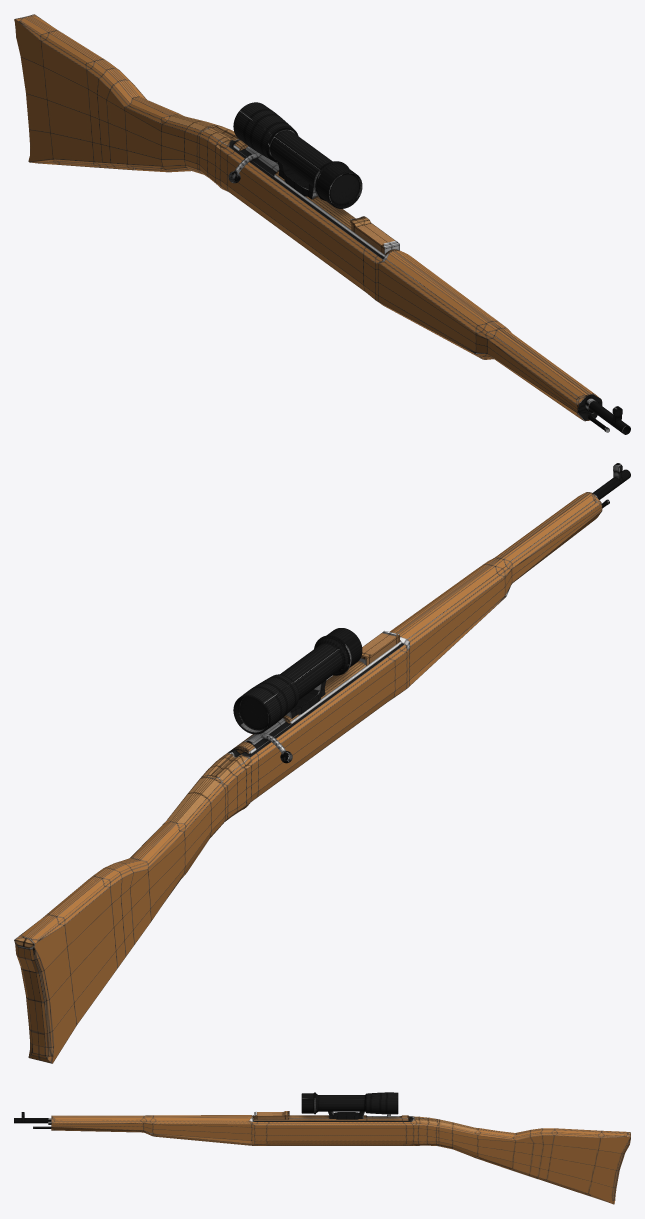
File: Completed MosinNagant.fbx
3 renders of one model, top to bottom at view 1: azimuth 30°, elevation 25°; view 2: azimuth 150°, elevation 25°; view 3: azimuth 270°, elevation 25°, orthographic. The views are drawn at different scales.
Visible parts, largest first — view 1: Cube; view 2: Cube; view 3: Cube.
Boxes of the visible parts, left/top/right/bottom form: Cube: left=14, top=14, right=630, bottom=434; Cube: left=14, top=463, right=630, bottom=1063; Cube: left=14, top=1092, right=630, bottom=1204.
Bounding box in the file's own units: 195 × 794 × 4093.
